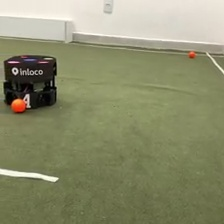ball: (9, 96, 27, 114), (187, 50, 196, 59)
goal: (1, 15, 73, 45)
robot: (1, 52, 59, 110)
